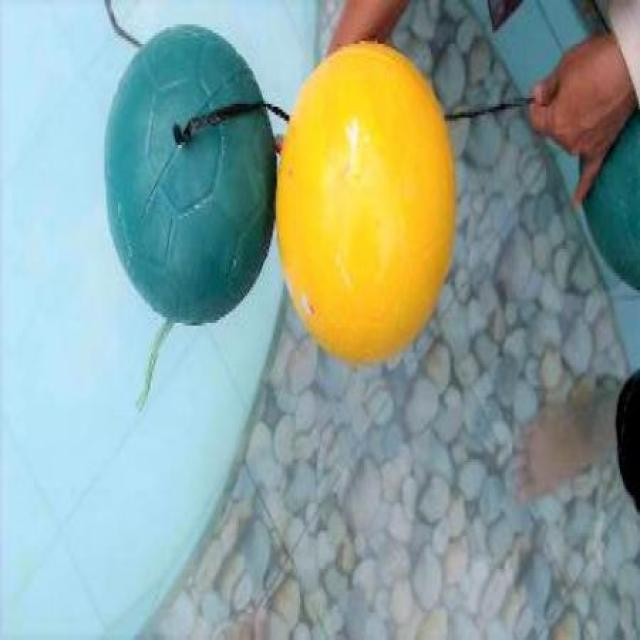buoy: (276, 41, 456, 364), (104, 20, 277, 324)
